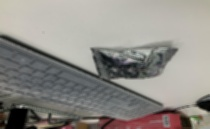br: (89, 45, 179, 81)
